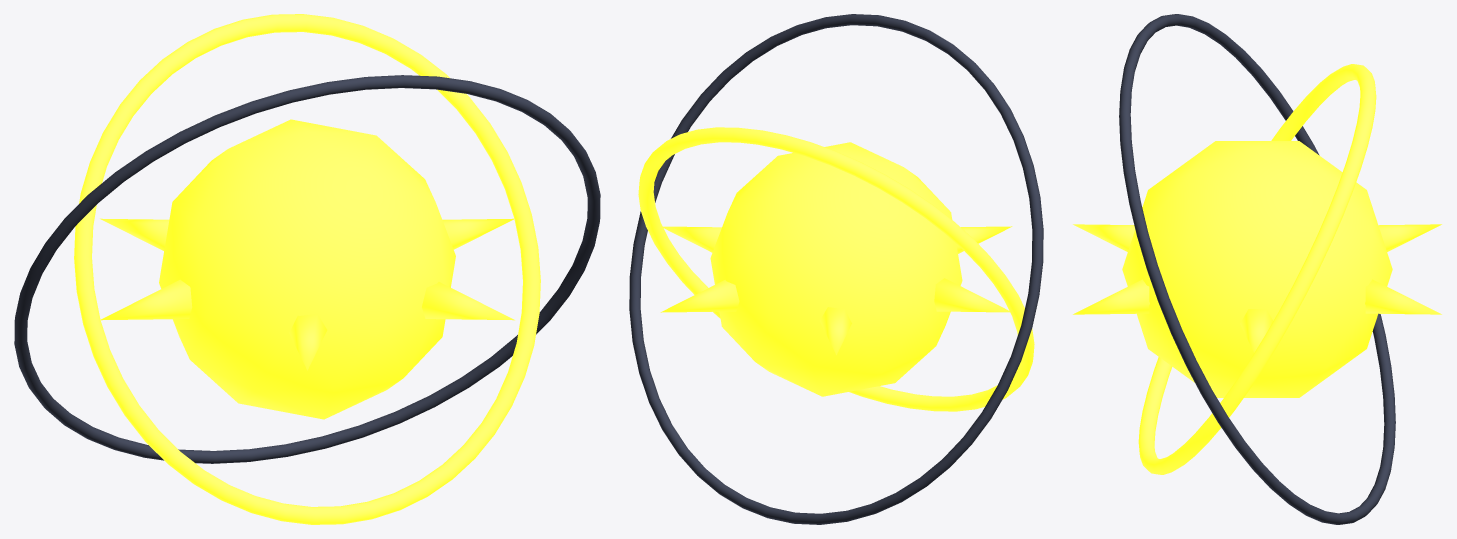
The model's file is core.glb.
3 views of the same model, side by side, from view 1: azimuth 30°, elevation 25°; view 2: azimuth 150°, elevation 25°; view 3: azimuth 270°, elevation 25° (orthographic). The views are drawn at different scales.
Visible parts, largest first — view 1: CoreGem, RingA, RingB, Spike3, Spike5, Spike4, Spike0, Spike2; view 2: CoreGem, RingB, RingA, Spike3, Spike1, Spike2, Spike0, Spike4; view 3: CoreGem, RingB, RingA, Spike1, Spike5, Spike2, Spike4, Spike0.
Boxes of the visible parts, left/top/right/bottom form: CoreGem: left=159, top=119, right=455, bottom=419; RingA: left=74, top=14, right=540, bottom=524; RingB: left=14, top=75, right=600, bottom=463; Spike3: left=100, top=279, right=192, bottom=320; Spike5: left=422, top=282, right=514, bottom=320; Spike4: left=289, top=313, right=327, bottom=370; Spike0: left=442, top=218, right=514, bottom=249; Spike2: left=100, top=218, right=169, bottom=250; CoreGem: left=710, top=142, right=962, bottom=396; RingB: left=629, top=14, right=1043, bottom=524; RingA: left=638, top=127, right=1034, bottom=411; Spike3: left=934, top=278, right=1009, bottom=312; Spike1: left=660, top=280, right=739, bottom=312; Spike2: left=820, top=307, right=851, bottom=355; Spike0: left=660, top=226, right=721, bottom=252; Spike4: left=956, top=226, right=1012, bottom=253; CoreGem: left=1122, top=141, right=1392, bottom=397; RingB: left=1119, top=14, right=1395, bottom=524; RingA: left=1138, top=64, right=1376, bottom=474; Spike1: left=1365, top=279, right=1441, bottom=314; Spike5: left=1073, top=279, right=1149, bottom=314; Spike2: left=1378, top=224, right=1441, bottom=251; Spike4: left=1073, top=224, right=1135, bottom=251; Spike0: left=1240, top=309, right=1272, bottom=352.
Bounding box in the file's own units: 1.96 × 1.78 × 1.37.
